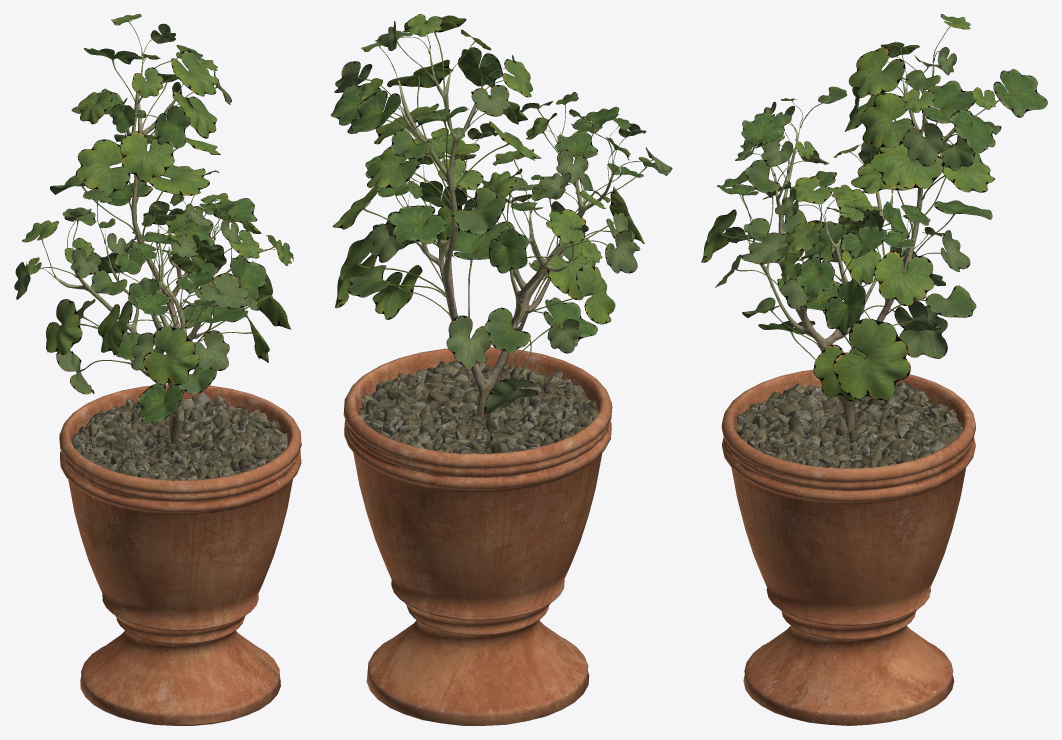
The model's file is ph_potted_plant_01.glb.
3 views of the same model, side by side, from view 1: azimuth 30°, elevation 25°; view 2: azimuth 150°, elevation 25°; view 3: azimuth 270°, elevation 25° (orthographic). The views are drawn at different scales.
Parts seen in each view (by area): view 1: potted_plant_01_pot, potted_plant_01_leaves, potted_plant_01_pebbles, potted_plant_01_stem; view 2: potted_plant_01_pot, potted_plant_01_leaves, potted_plant_01_pebbles, potted_plant_01_stem; view 3: potted_plant_01_pot, potted_plant_01_leaves, potted_plant_01_pebbles, potted_plant_01_stem.
Boxes of the visible parts, bbox=[...] form: potted_plant_01_pot: bbox=[59, 384, 301, 725]; potted_plant_01_leaves: bbox=[14, 14, 293, 423]; potted_plant_01_pebbles: bbox=[71, 392, 287, 480]; potted_plant_01_stem: bbox=[54, 54, 244, 443]; potted_plant_01_pot: bbox=[343, 347, 612, 725]; potted_plant_01_leaves: bbox=[331, 14, 672, 414]; potted_plant_01_pebbles: bbox=[359, 360, 597, 453]; potted_plant_01_stem: bbox=[398, 49, 612, 420]; potted_plant_01_pot: bbox=[721, 369, 975, 725]; potted_plant_01_leaves: bbox=[701, 14, 1047, 401]; potted_plant_01_pebbles: bbox=[736, 382, 962, 468]; potted_plant_01_stem: bbox=[752, 55, 967, 431].
Bounding box in the file's own units: 0.5874 × 1.34 × 0.6336.
2 materials, 2 textured.
